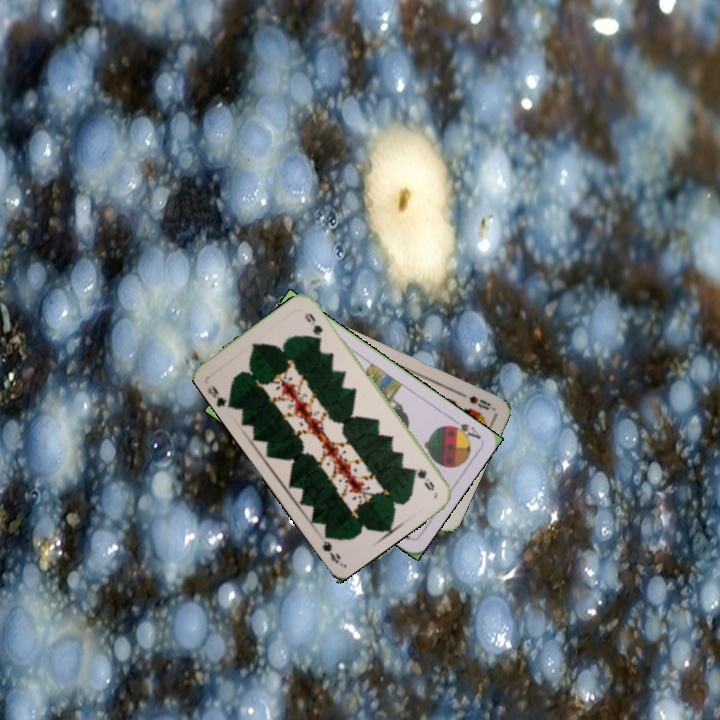G9: (203, 381, 234, 410), (409, 464, 437, 493)
S8: (465, 392, 493, 412)
SA: (444, 414, 484, 443)
